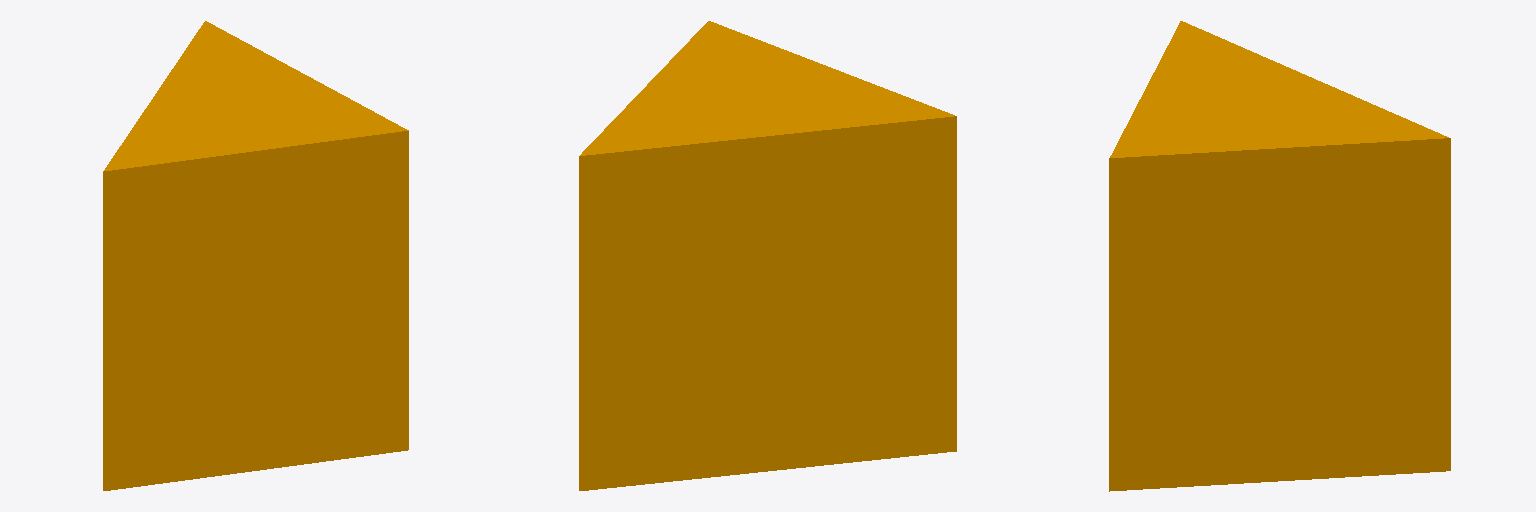
The robot description file, URDF, robot "object":
<?xml version="1.0"?>
<robot name="object">
  <link name="object">
    <visual>
      <origin xyz="0 0 0"/>
      <geometry>
        <mesh filename="meshes/generated/col_021.obj" scale="0.03 0.03 0.03"/>
      </geometry>
    </visual>
    <collision>
      <origin xyz="0 0 0"/>
      <geometry>
        <mesh filename="meshes/generated/col_021.obj" scale="0.03 0.03 0.03"/>
      </geometry>
    </collision>
    <inertial>
      <density value="1000.0"/>
    </inertial>
  </link>
</robot>

--- Render facts (derived) ---
3 views of the same robot in one strip: view 1: azimuth 30°, elevation 25°; view 2: azimuth 150°, elevation 25°; view 3: azimuth 270°, elevation 25° (orthographic).
Model object with 1 links and 0 joints (none), rooted at object, posed every joint at zero.
Links seen in each view (by area): view 1: object; view 2: object; view 3: object.
Boxes of the visible links, x1=… form: object: x1=103, y1=21, x2=408, y2=490; object: x1=579, y1=21, x2=956, y2=490; object: x1=1109, y1=21, x2=1450, y2=491.
Size in the robot's own frame: 0.0533 by 0.0557 by 0.06 metres.
1 mesh visuals loaded from 1 distinct referenced files (1 OBJ).
